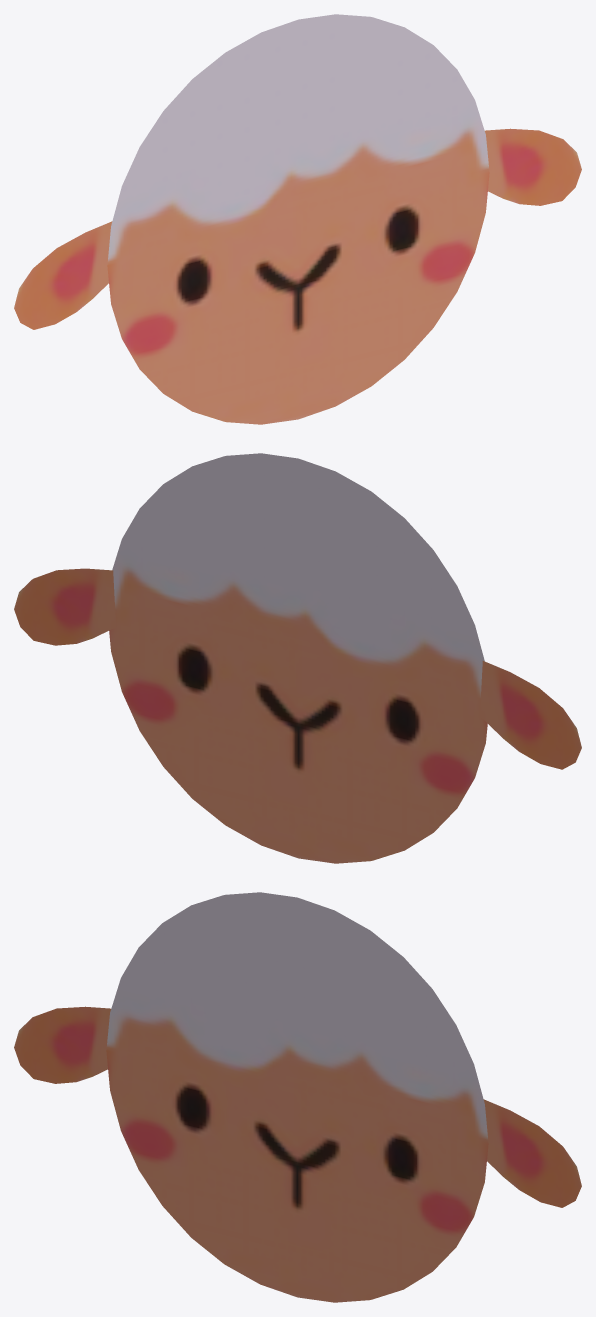
The model's file is Sheep.fbx.
3 views of the same model, one above another, from view 1: azimuth 30°, elevation 25°; view 2: azimuth 150°, elevation 25°; view 3: azimuth 330°, elevation 25° (orthographic).
Parts seen in each view (by area): view 1: Sheep; view 2: Sheep; view 3: Sheep.
Boxes of the visible parts, bbox=[...] form: Sheep: bbox=[14, 14, 581, 424]; Sheep: bbox=[14, 453, 581, 863]; Sheep: bbox=[14, 892, 581, 1302].
Size of the model in its own units: 297 by 200 by 0.453.
